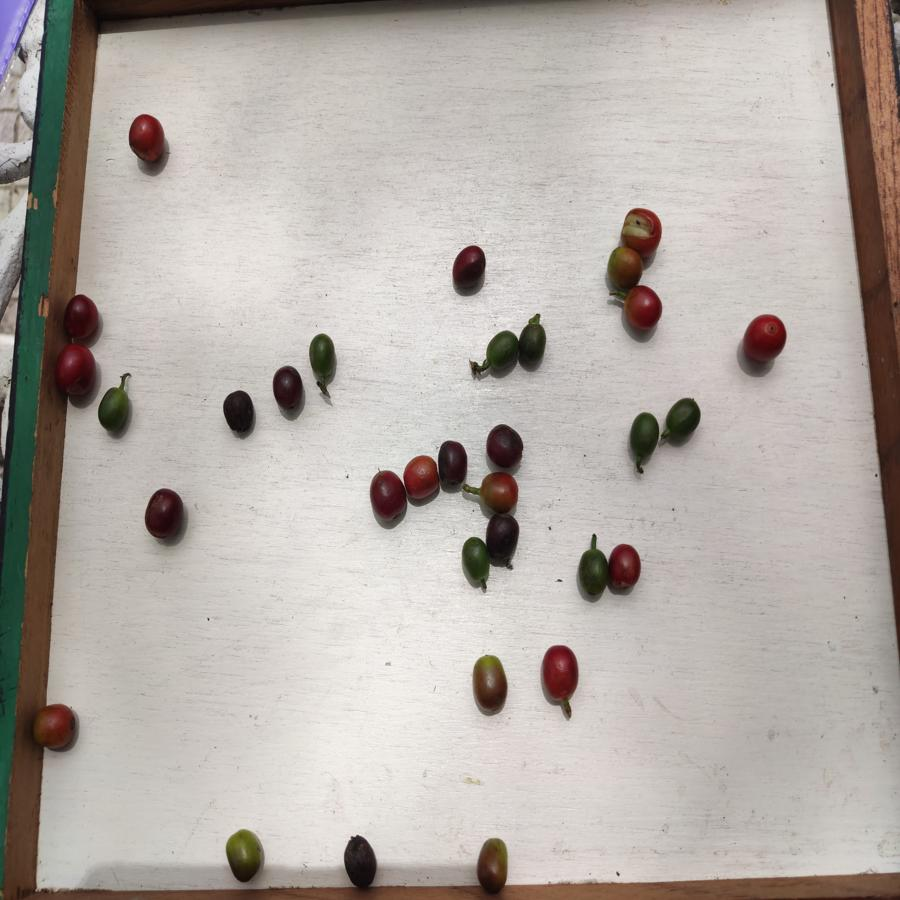Inmaduro: (664, 396, 703, 441), (97, 386, 133, 433), (627, 409, 658, 458), (484, 329, 520, 371), (520, 316, 548, 368), (579, 547, 607, 599), (461, 535, 489, 583), (309, 335, 339, 376)
Maduro: (541, 643, 583, 703), (54, 341, 96, 397), (620, 284, 662, 332), (619, 205, 662, 251), (746, 314, 787, 361), (127, 112, 165, 162), (403, 452, 439, 503), (607, 542, 641, 591)
Pinton: (469, 651, 510, 716), (30, 703, 79, 751), (225, 828, 261, 884), (478, 837, 509, 896), (478, 471, 519, 511), (606, 247, 643, 286)
Sobremaduro: (367, 470, 407, 524), (482, 421, 527, 468), (344, 834, 381, 890), (144, 488, 184, 539), (450, 242, 489, 288), (64, 292, 101, 339), (485, 514, 520, 563), (272, 365, 308, 408), (223, 390, 256, 435), (436, 441, 467, 486)
